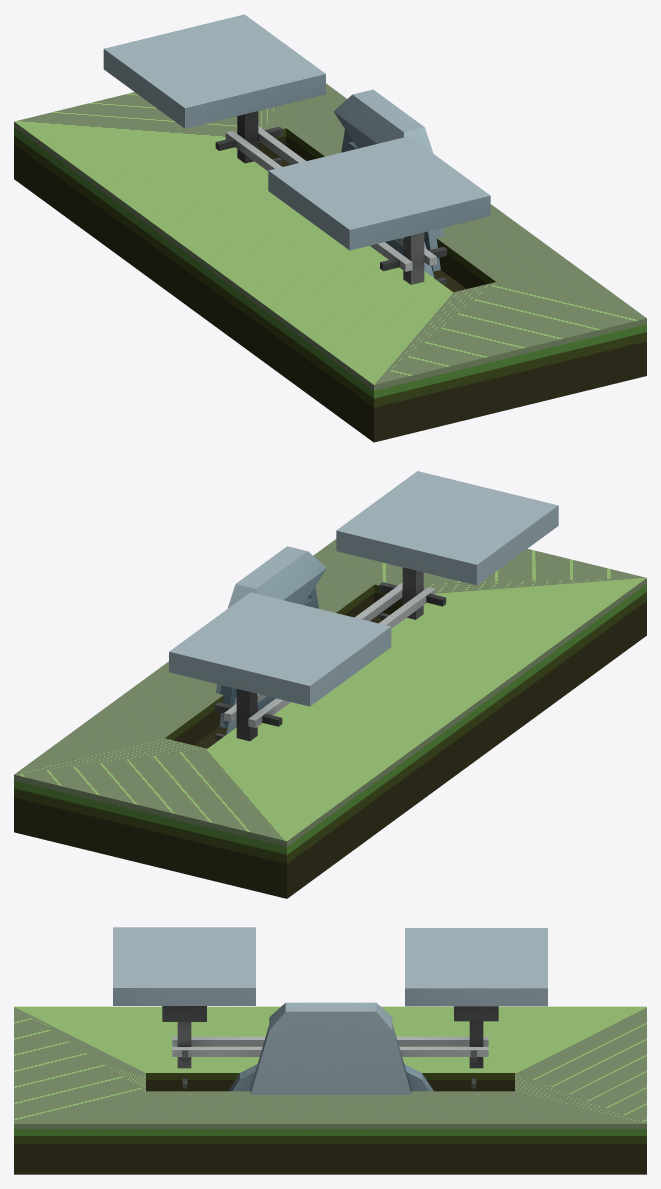
File: Scales_fbx.fbx
The picture shows the model from 3 angles, top to bottom: view 1: azimuth 30°, elevation 25°; view 2: azimuth 150°, elevation 25°; view 3: azimuth 270°, elevation 25°; orthographic projection. The views are drawn at different scales.
Parts seen in each view (by area): view 1: scales_floor, pCube1 (×2), back, pCube4 (×2), pCube7, pCube5; view 2: scales_floor, pCube1 (×2), back, pCube4 (×2), pCube7, pCube5; view 3: scales_floor, pCube1 (×2), back, pCube7, pCube5, pCube2 (×2), pCube4 (×2), pCube16.
Part boxes in pixels (x1,y1,x2,y2): scales_floor: [14, 83, 646, 442]; pCube1 (×2): [103, 14, 490, 250]; back: [333, 89, 444, 271]; pCube4 (×2): [237, 111, 424, 284]; pCube7: [225, 131, 412, 271]; pCube5: [258, 126, 436, 265]; scales_floor: [14, 539, 646, 898]; pCube1 (×2): [169, 471, 558, 706]; back: [215, 546, 326, 728]; pCube4 (×2): [236, 567, 423, 741]; pCube7: [248, 587, 435, 728]; pCube5: [224, 582, 402, 722]; scales_floor: [14, 1006, 646, 1174]; pCube1 (×2): [113, 927, 547, 1006]; back: [250, 1002, 411, 1094]; pCube7: [172, 1036, 488, 1046]; pCube5: [172, 1047, 488, 1056]; pCube2 (×2): [162, 1006, 498, 1021]; pCube4 (×2): [177, 1021, 483, 1068]; pCube16: [228, 1064, 433, 1091].
Size of the model in its own units: 133 by 78.48 by 304.
